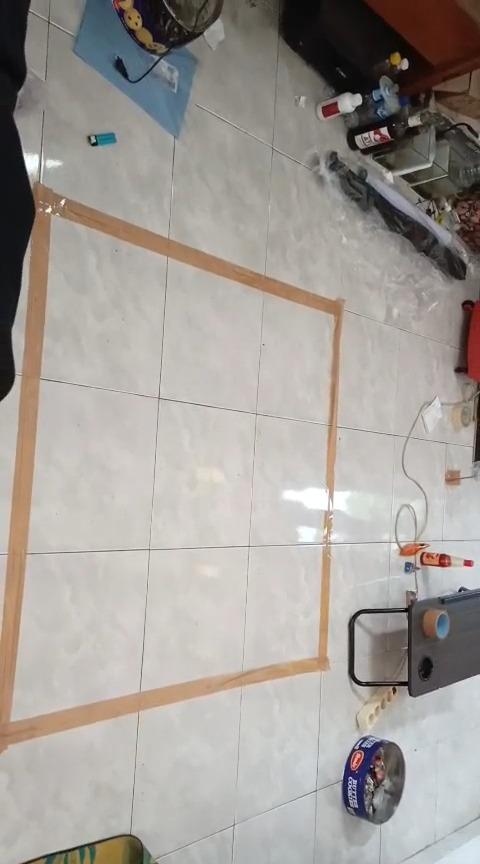floor marking: (0, 183, 342, 752)
